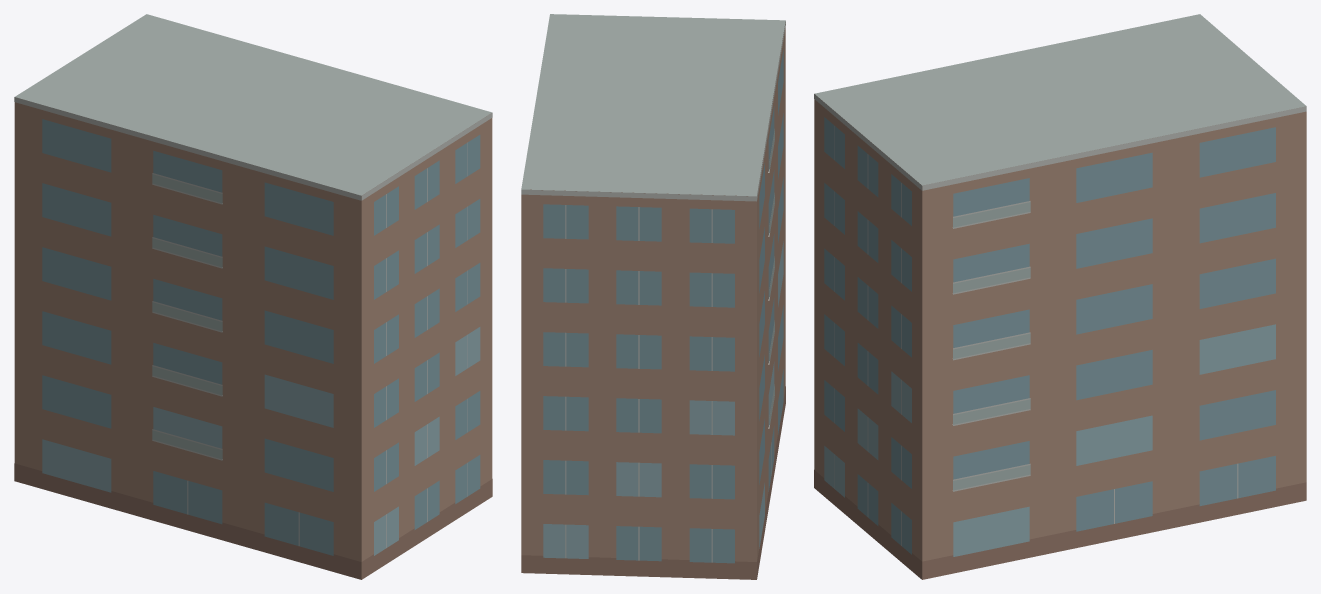
Rendered from survey-upis-32697625.glb.
3 views of the same model, side by side, from view 1: azimuth 30°, elevation 25°; view 2: azimuth 150°, elevation 25°; view 3: azimuth 270°, elevation 25° (orthographic). The views are drawn at different scales.
Parts seen in each view (by area): view 1: survey-upis-32697625.tmp; view 2: survey-upis-32697625.tmp; view 3: survey-upis-32697625.tmp.
Boxes of the visible parts, x1,y1,x2,y2 form: survey-upis-32697625.tmp: [14, 14, 492, 579]; survey-upis-32697625.tmp: [521, 14, 785, 579]; survey-upis-32697625.tmp: [814, 14, 1306, 579].
Size of the model in its own units: 17.09 by 18.3 by 20.72.
